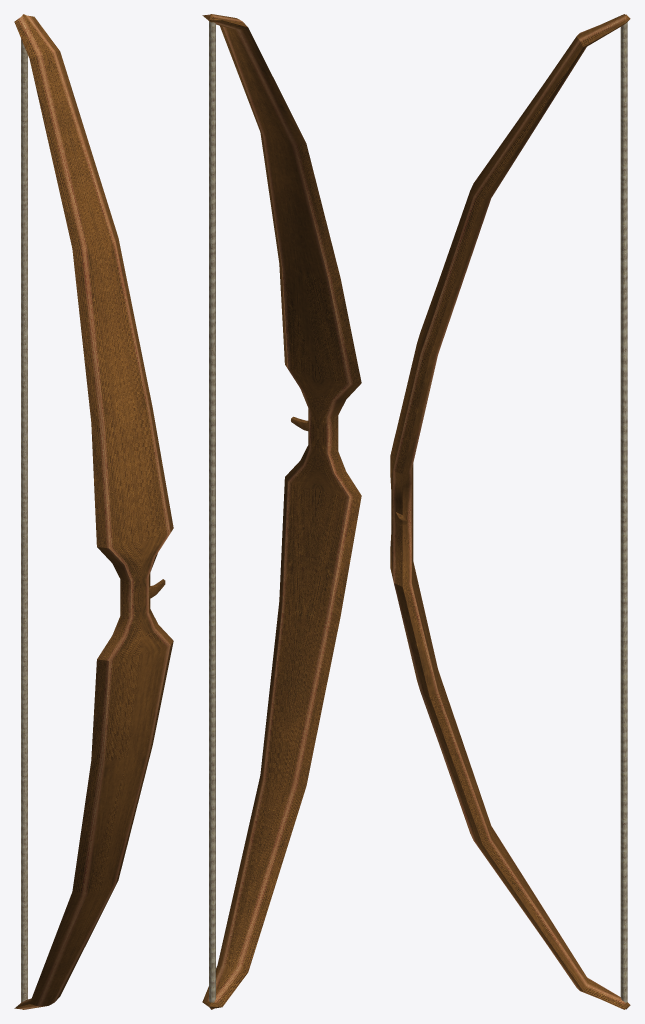
The model's file is basic_bow.glb.
3 views of the same model, side by side, from view 1: azimuth 30°, elevation 25°; view 2: azimuth 150°, elevation 25°; view 3: azimuth 270°, elevation 25° (orthographic).
Parts seen in each view (by area): view 1: Bow; view 2: Bow; view 3: Bow.
Boxes of the visible parts, bbox=[...] form: Bow: bbox=[14, 14, 173, 1009]; Bow: bbox=[202, 14, 361, 1009]; Bow: bbox=[390, 14, 630, 1009].
Bounding box in the file's own units: 0.1 × 1.24 × 0.2711.
2 materials, 2 textured.
